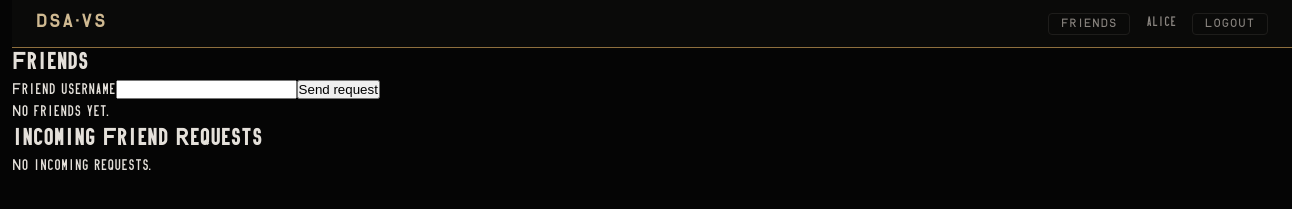
Test: friends › prevents duplicate friend request
Type "bob" into the field labelled "Friend username" at (206, 90), box [116,80,297,99]
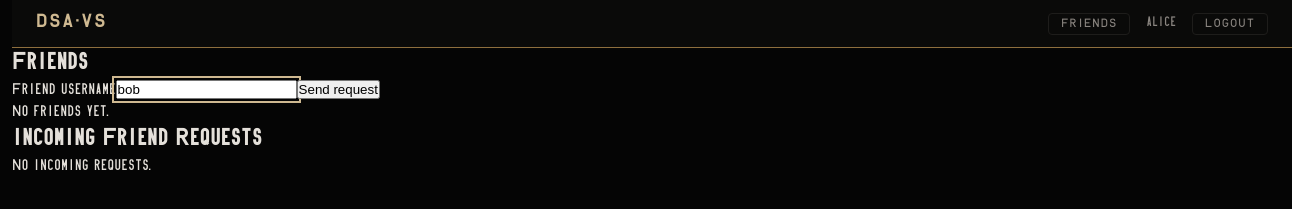
Click the button "Send request" at (338, 90), box [297,80,380,99]
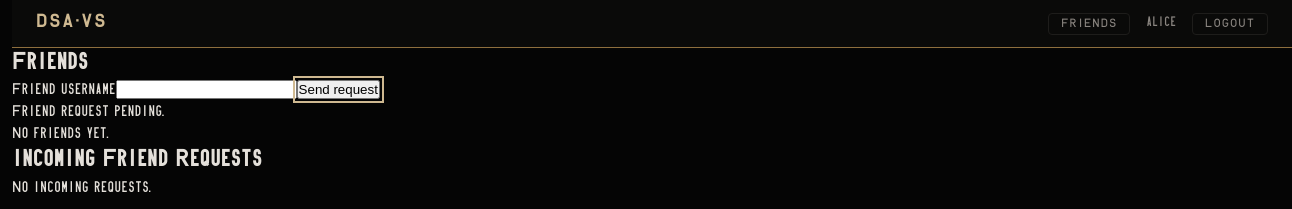
Type "bob" into the field labelled "Friend username" at (206, 90), box [116,80,297,99]
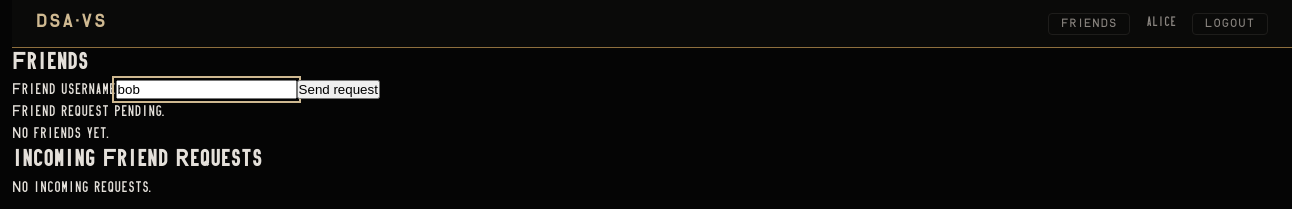
Click the button "Send request" at (338, 90), box [297,80,380,99]
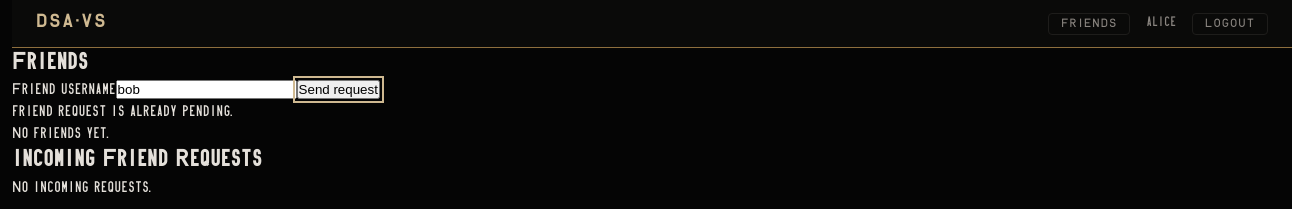
Expected: the message shows "already pending", [12,106,232,119]
